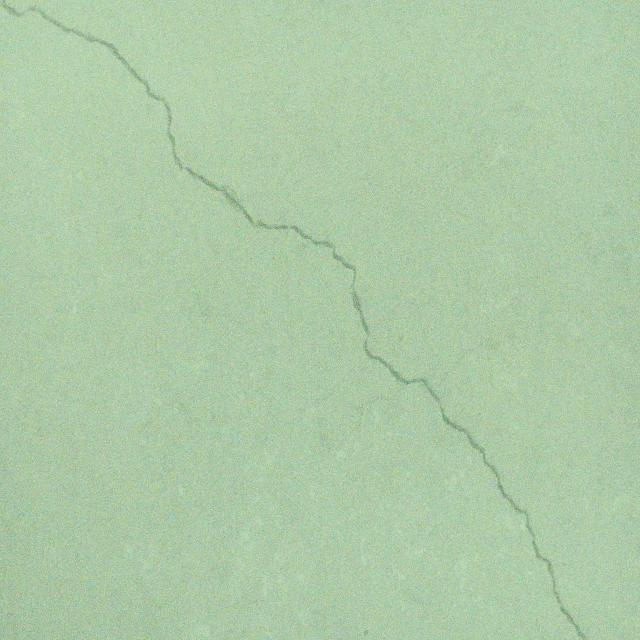crack: (0, 0, 587, 640), (490, 308, 521, 330)
